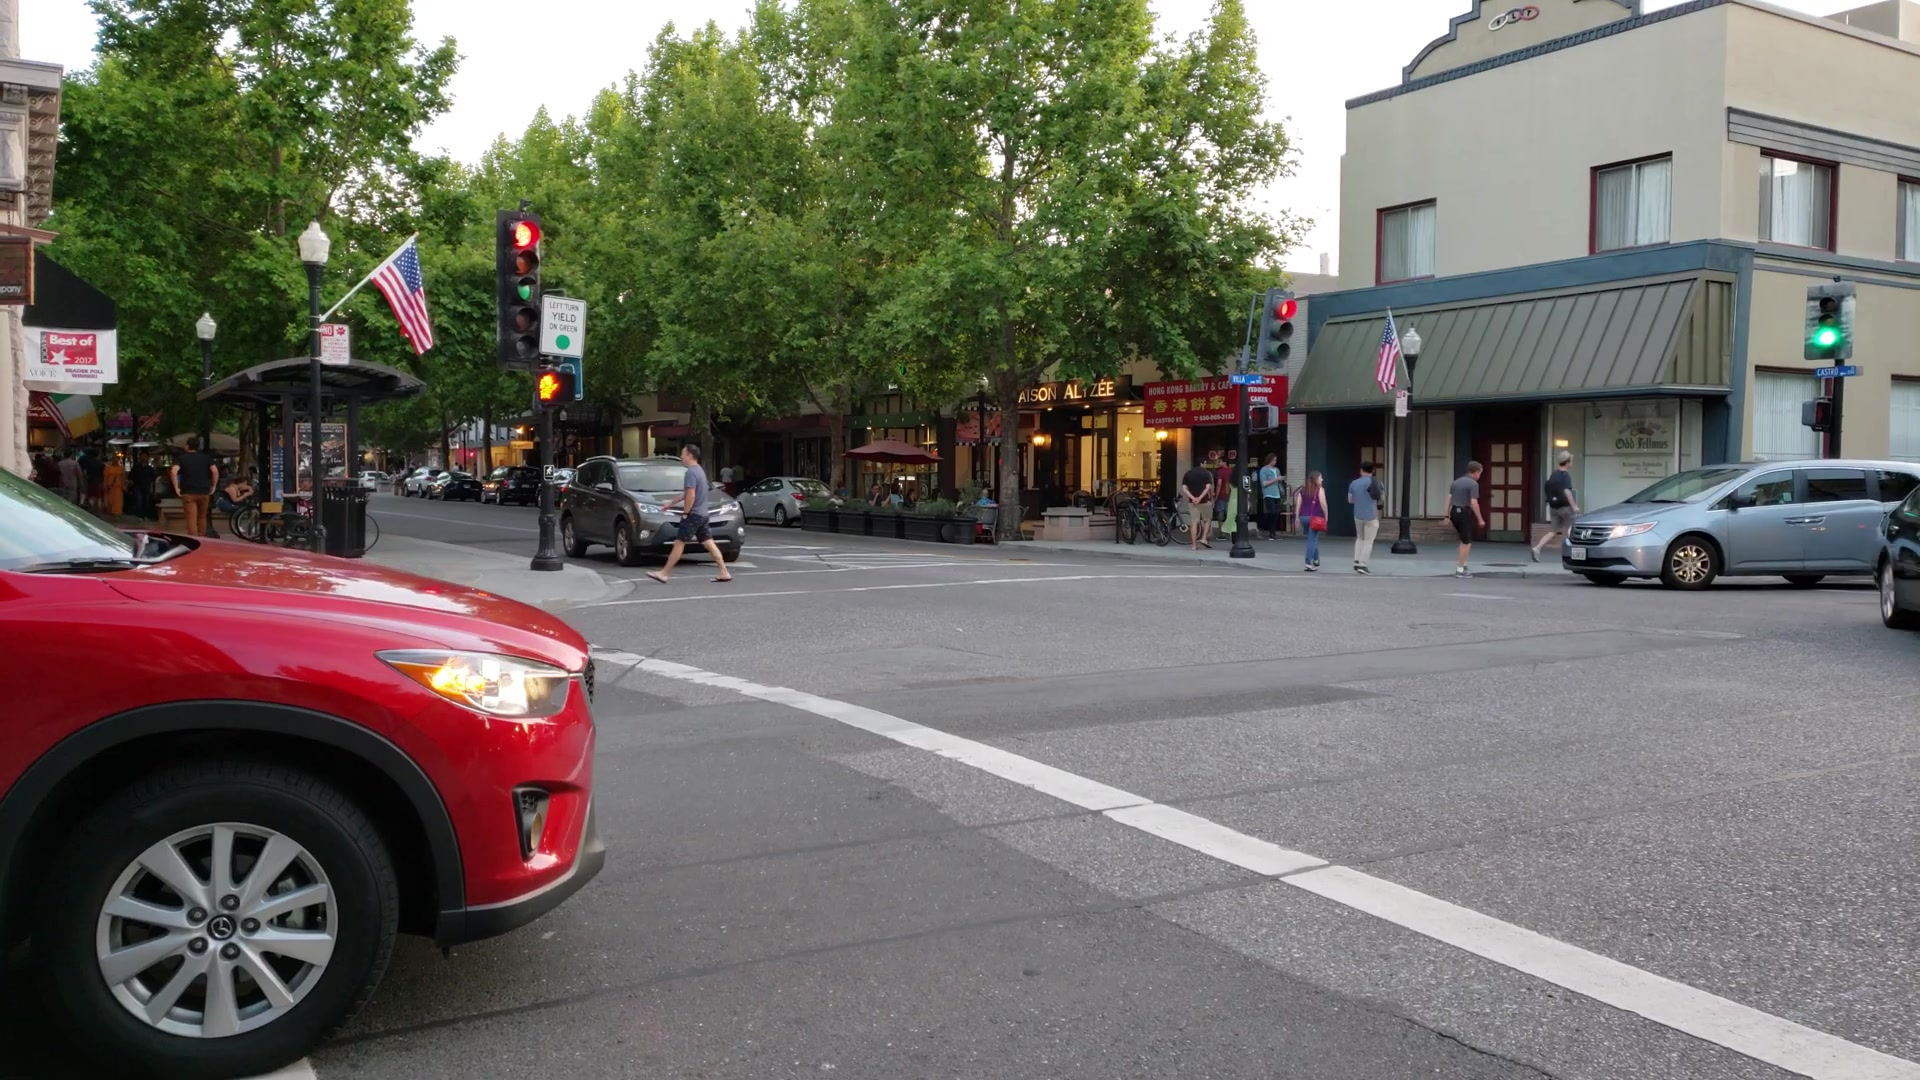vehicle: (1, 475, 609, 1064), (1556, 458, 1920, 592), (556, 447, 738, 576)
